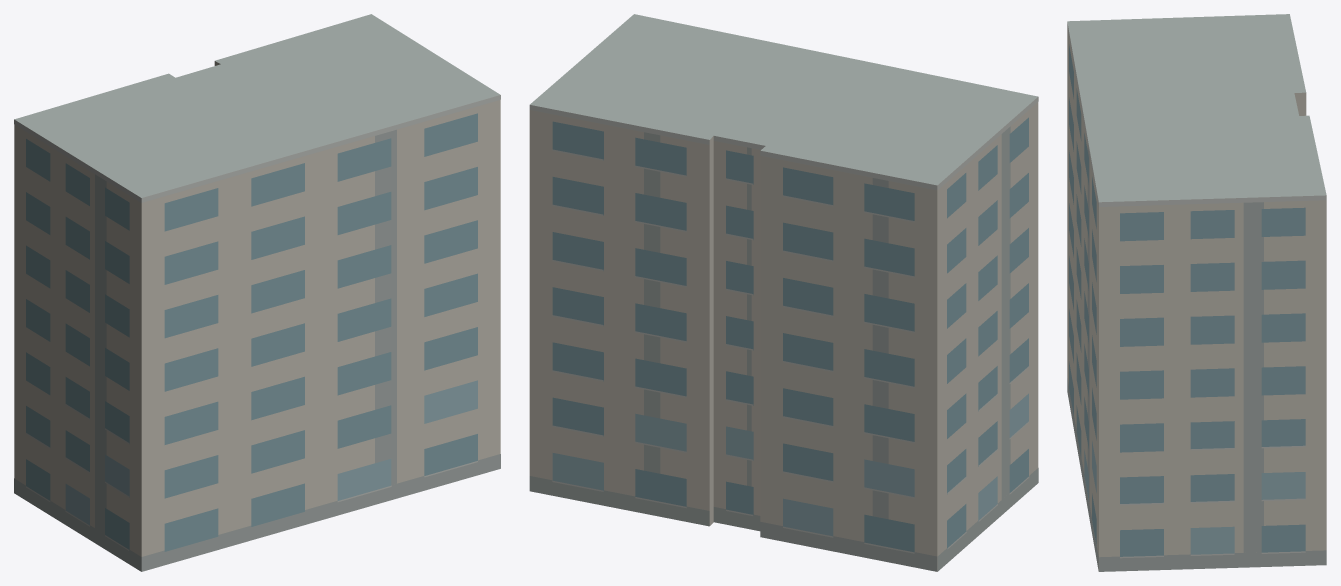
File: survey-upis-33006245.glb
3 views of the same model, side by side, from view 1: azimuth 30°, elevation 25°; view 2: azimuth 150°, elevation 25°; view 3: azimuth 270°, elevation 25° (orthographic). The views are drawn at different scales.
Parts seen in each view (by area): view 1: survey-upis-33006245.tmp; view 2: survey-upis-33006245.tmp; view 3: survey-upis-33006245.tmp.
Boxes of the visible parts, bbox=[...] form: survey-upis-33006245.tmp: bbox=[14, 14, 500, 571]; survey-upis-33006245.tmp: bbox=[529, 14, 1038, 571]; survey-upis-33006245.tmp: bbox=[1067, 14, 1326, 571].
Size of the model in its own units: 20.32 by 18.6 by 11.84.
